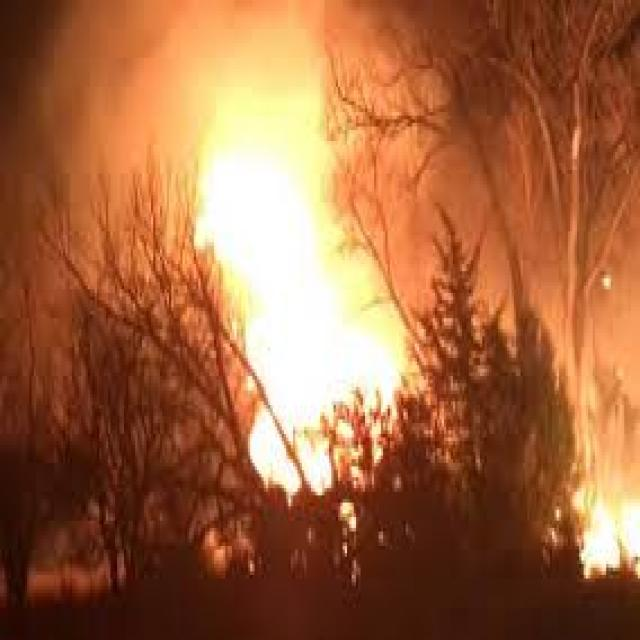Fire: (191, 99, 416, 500), (564, 462, 640, 587)
Smoke: (12, 0, 198, 239), (194, 0, 346, 107)
